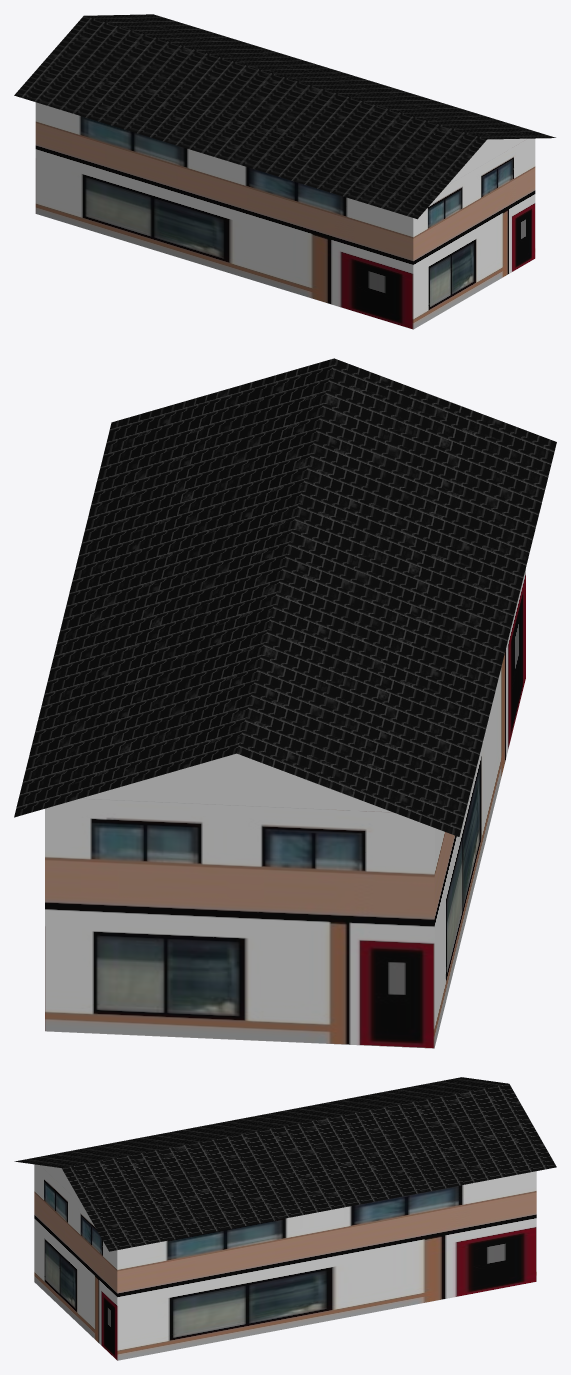
The picture shows the model from 3 angles, top to bottom: view 1: azimuth 30°, elevation 25°; view 2: azimuth 150°, elevation 25°; view 3: azimuth 270°, elevation 25°; orthographic projection. The views are drawn at different scales.
Parts seen in each view (by area): view 1: CityEngineMaterial_5_m, CityEngineMaterial_14_m, CityEngineMaterial_3_m; view 2: CityEngineMaterial_14_m, CityEngineMaterial_5_m, CityEngineMaterial_3_m; view 3: CityEngineMaterial_5_m, CityEngineMaterial_14_m, CityEngineMaterial_3_m.
Part boxes in pixels (x1,y1,x2,y2): CityEngineMaterial_5_m: [35, 102, 535, 329]; CityEngineMaterial_14_m: [14, 14, 555, 219]; CityEngineMaterial_3_m: [447, 138, 527, 185]; CityEngineMaterial_14_m: [14, 358, 556, 836]; CityEngineMaterial_5_m: [45, 568, 525, 1048]; CityEngineMaterial_3_m: [80, 753, 392, 812]; CityEngineMaterial_5_m: [34, 1164, 536, 1360]; CityEngineMaterial_14_m: [14, 1077, 556, 1251]; CityEngineMaterial_3_m: [40, 1165, 82, 1205].
Bounding box in the file's own units: 26.44 × 11.01 × 34.75.
